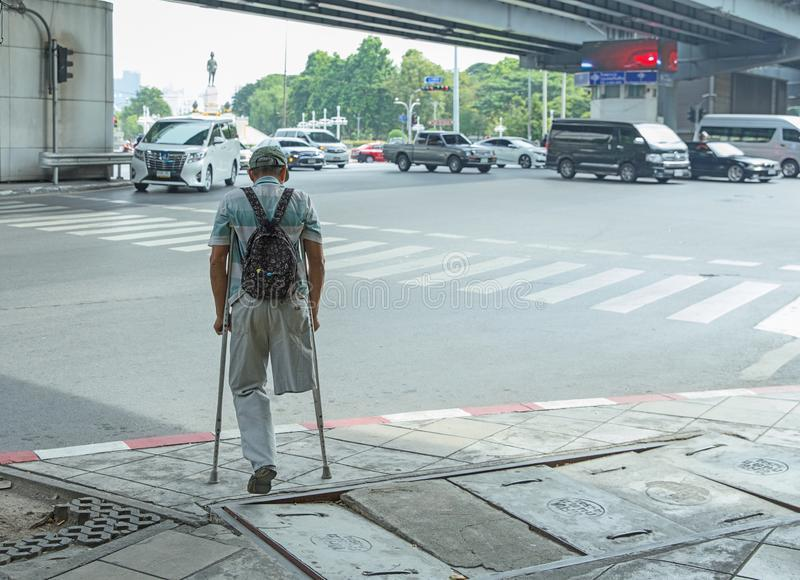crutches: (198, 133, 341, 493)
